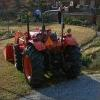Tractor: (8, 15, 86, 86)
